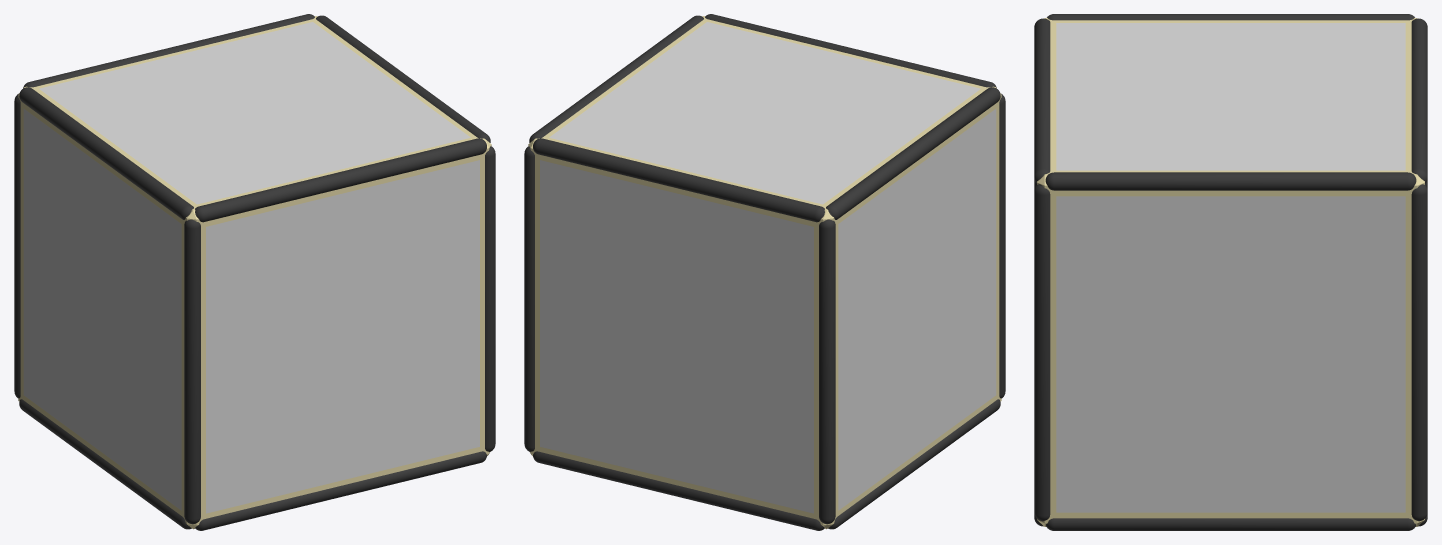
File: sacFrame.fbx
3 views of the same model, side by side, from view 1: azimuth 30°, elevation 25°; view 2: azimuth 150°, elevation 25°; view 3: azimuth 270°, elevation 25° (orthographic). The views are drawn at different scales.
Visible parts, largest first — view 1: frame; view 2: frame; view 3: frame.
Boxes of the visible parts, box(x1,y1,x2,y2) form: frame: box(14, 14, 495, 530); frame: box(524, 14, 1005, 530); frame: box(1034, 14, 1427, 530).
Bounding box in the file's own units: 203 × 203 × 203.
